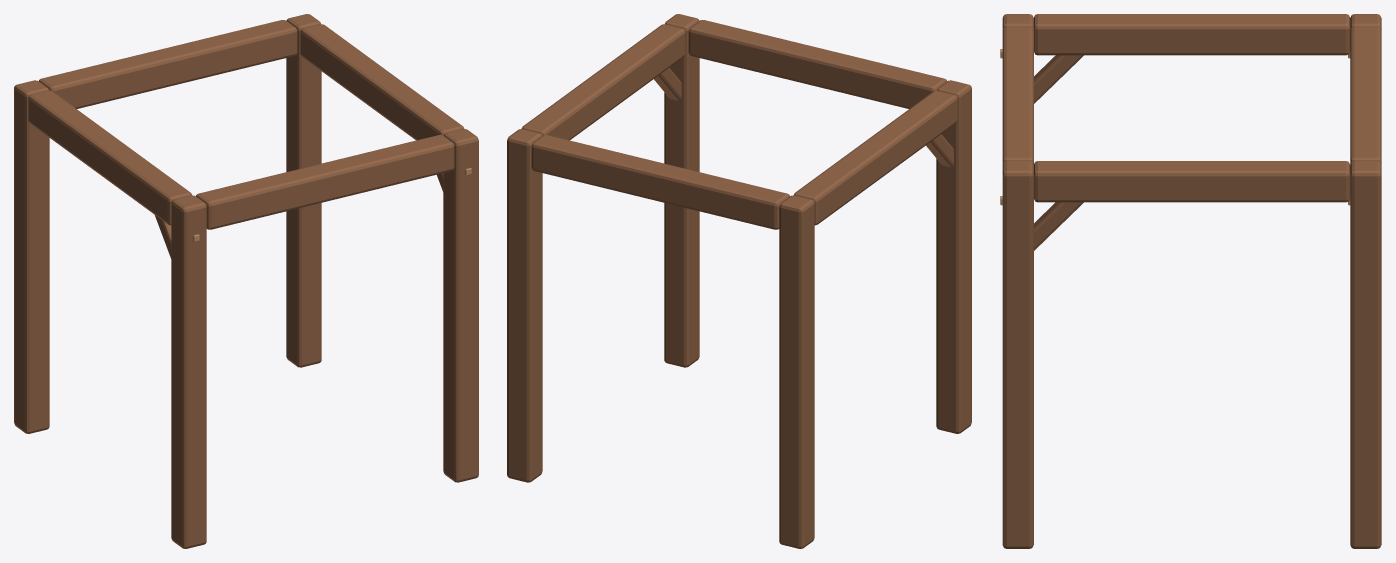
File: frame_timber_2m.glb
3 renders of one model, left to right at view 1: azimuth 30°, elevation 25°; view 2: azimuth 150°, elevation 25°; view 3: azimuth 270°, elevation 25°, orthographic. The views are drawn at different scales.
Visible parts, largest first — view 1: frame_timber_2m; view 2: frame_timber_2m; view 3: frame_timber_2m.
Part boxes in pixels (x1,y1,x2,y2): frame_timber_2m: [14, 14, 478, 548]; frame_timber_2m: [507, 14, 971, 548]; frame_timber_2m: [1000, 14, 1381, 548].
Size of the model in its own units: 2.18 by 2.4 by 2.19.
